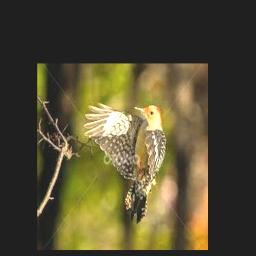Woodpecker: (84, 103, 167, 223)
